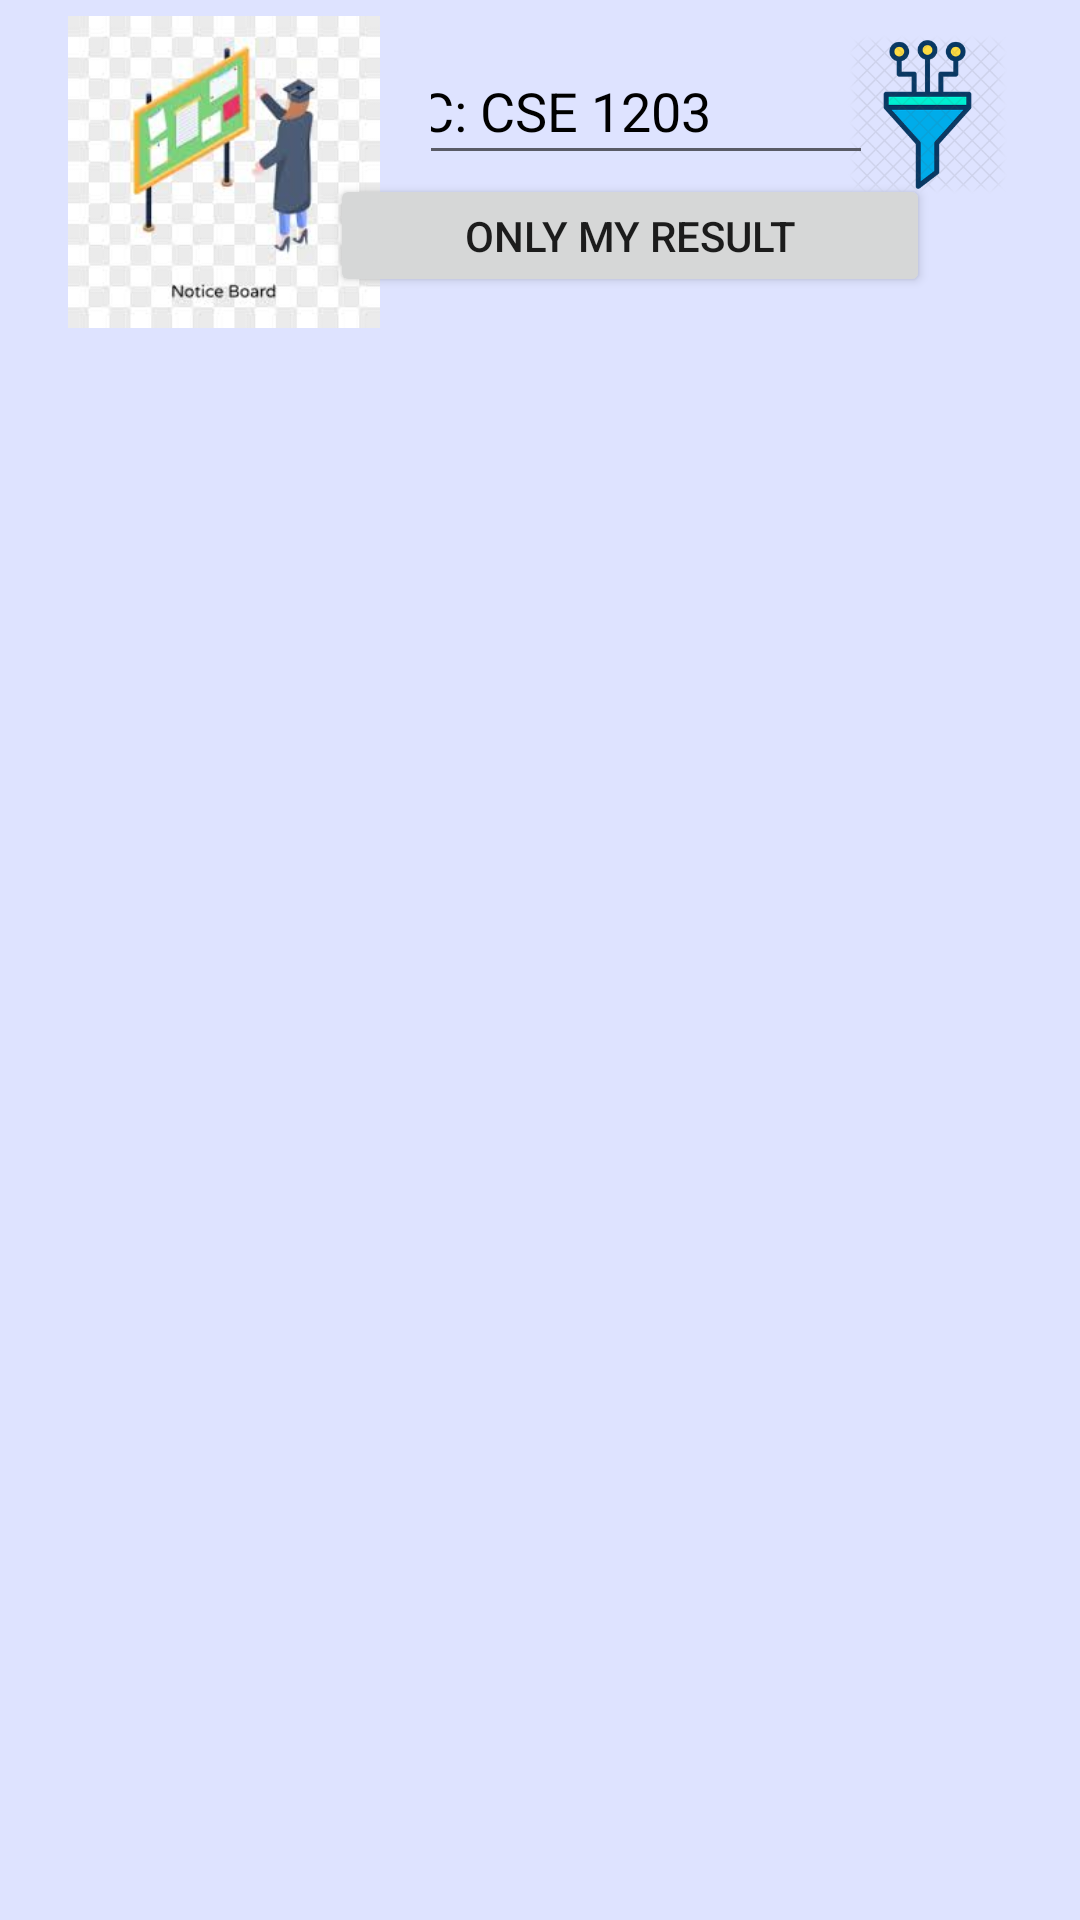

Icon click points for this 1080x1920 phone screenshot, format point (x, y):
filter: point (927, 114)
shownotice: point (224, 172)
